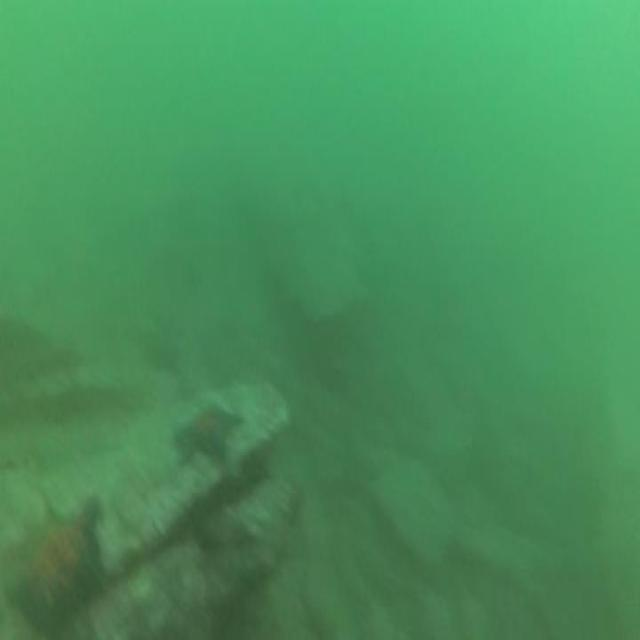starfish: (2, 488, 106, 640), (174, 400, 244, 469)
